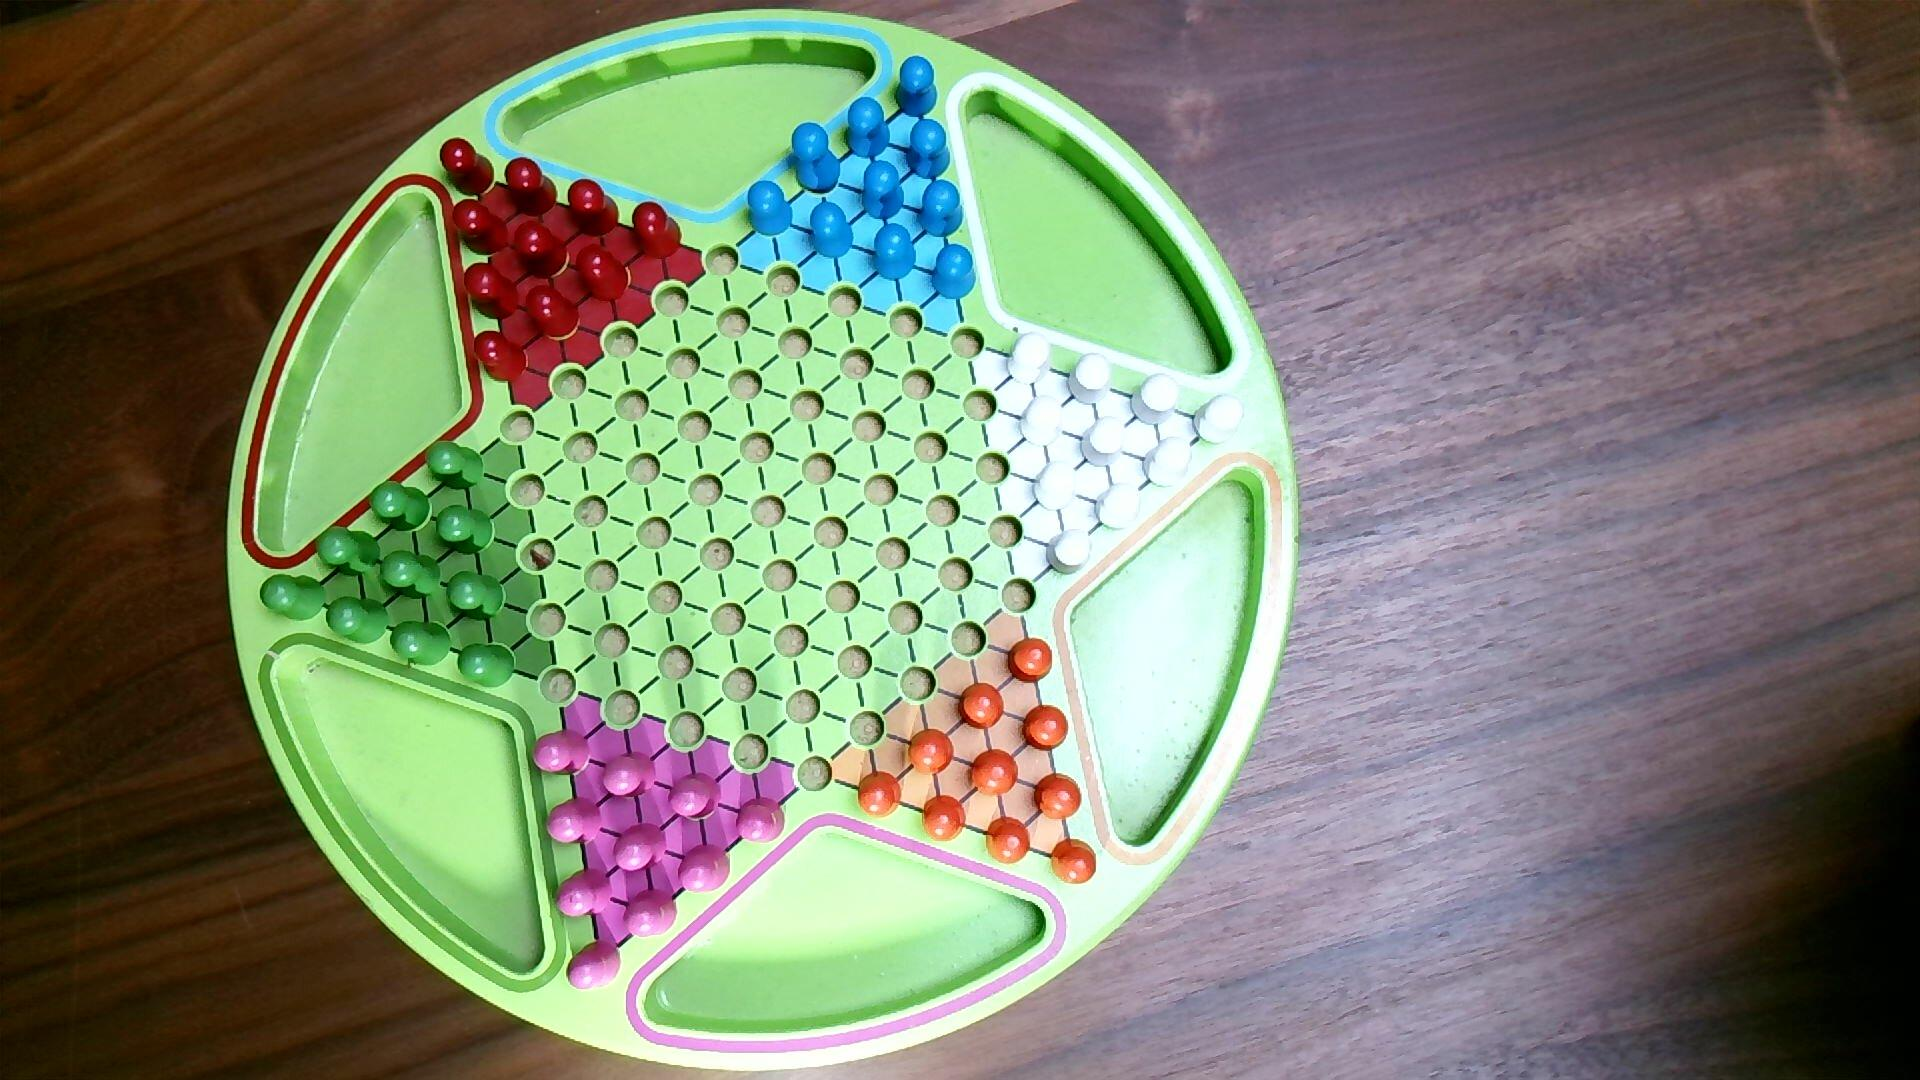B: (791, 123, 843, 194), (843, 95, 893, 161), (916, 178, 967, 240), (906, 117, 953, 182), (872, 222, 919, 284), (894, 55, 939, 120), (746, 181, 795, 240), (861, 160, 907, 222), (931, 243, 978, 302), (810, 200, 856, 261)
G: (313, 524, 382, 579), (367, 479, 433, 534), (323, 595, 392, 647), (378, 549, 443, 603), (425, 438, 487, 493), (258, 574, 328, 622), (435, 504, 496, 559), (444, 570, 506, 622), (390, 618, 454, 669), (458, 644, 518, 690)
O: (968, 748, 1021, 799), (1033, 771, 1084, 823), (1021, 703, 1071, 754), (907, 728, 957, 778), (1050, 837, 1098, 887), (920, 794, 969, 844), (957, 682, 1006, 731), (856, 770, 905, 819), (985, 816, 1033, 866), (1007, 636, 1055, 686)
R: (504, 156, 560, 219), (439, 136, 496, 199), (451, 198, 510, 257), (463, 262, 521, 322), (575, 244, 632, 303), (513, 220, 570, 280), (472, 328, 530, 385), (525, 284, 582, 340), (567, 178, 621, 237), (632, 200, 684, 261)
R2: (564, 938, 622, 993), (556, 866, 615, 920), (611, 822, 669, 876), (546, 796, 605, 849), (531, 728, 593, 778), (600, 750, 659, 800), (667, 771, 723, 824), (622, 887, 679, 939), (678, 844, 732, 894), (735, 796, 789, 845)
W: (1139, 435, 1193, 491), (1192, 393, 1247, 447), (1130, 372, 1183, 429), (1006, 330, 1054, 388), (1065, 351, 1113, 407), (1095, 481, 1145, 534), (1033, 459, 1080, 514), (1080, 415, 1127, 469), (1018, 394, 1065, 448), (1046, 527, 1095, 578)
